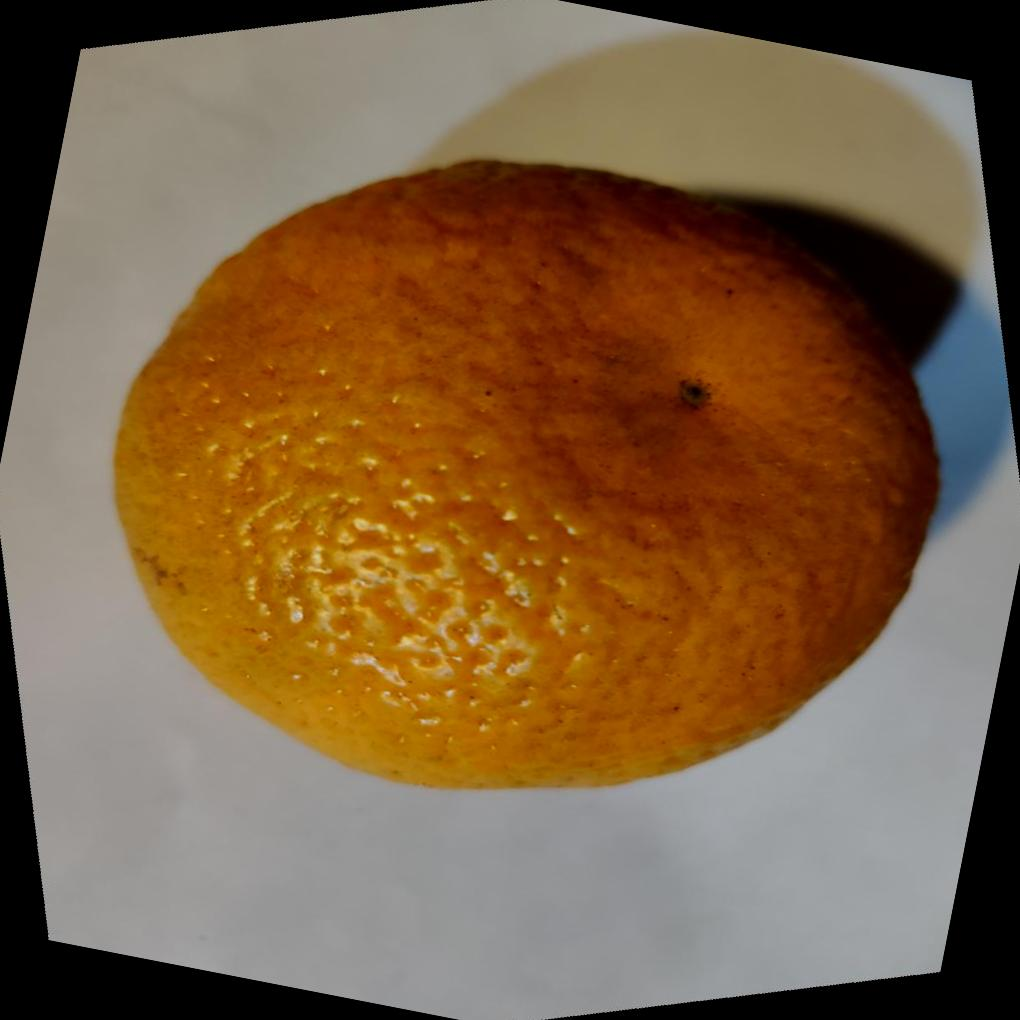FreshGuava: (108, 159, 942, 796)
